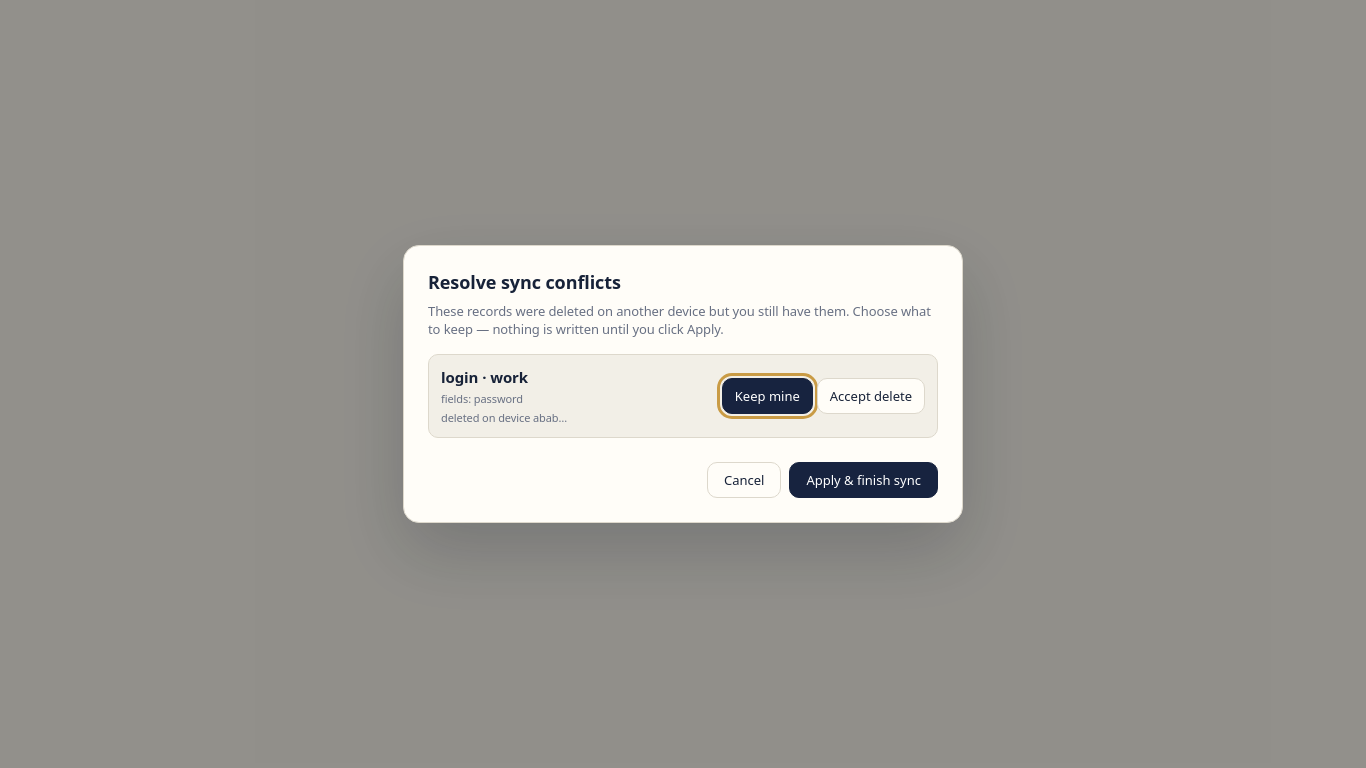
it: ConflictResolutionDialog.svelte › renders an inline alert and stays open on failure, without resolving
The image size is (1366, 768).
Click the button "Apply & finish sync". click: [864, 480]
box: [790, 462, 938, 498]
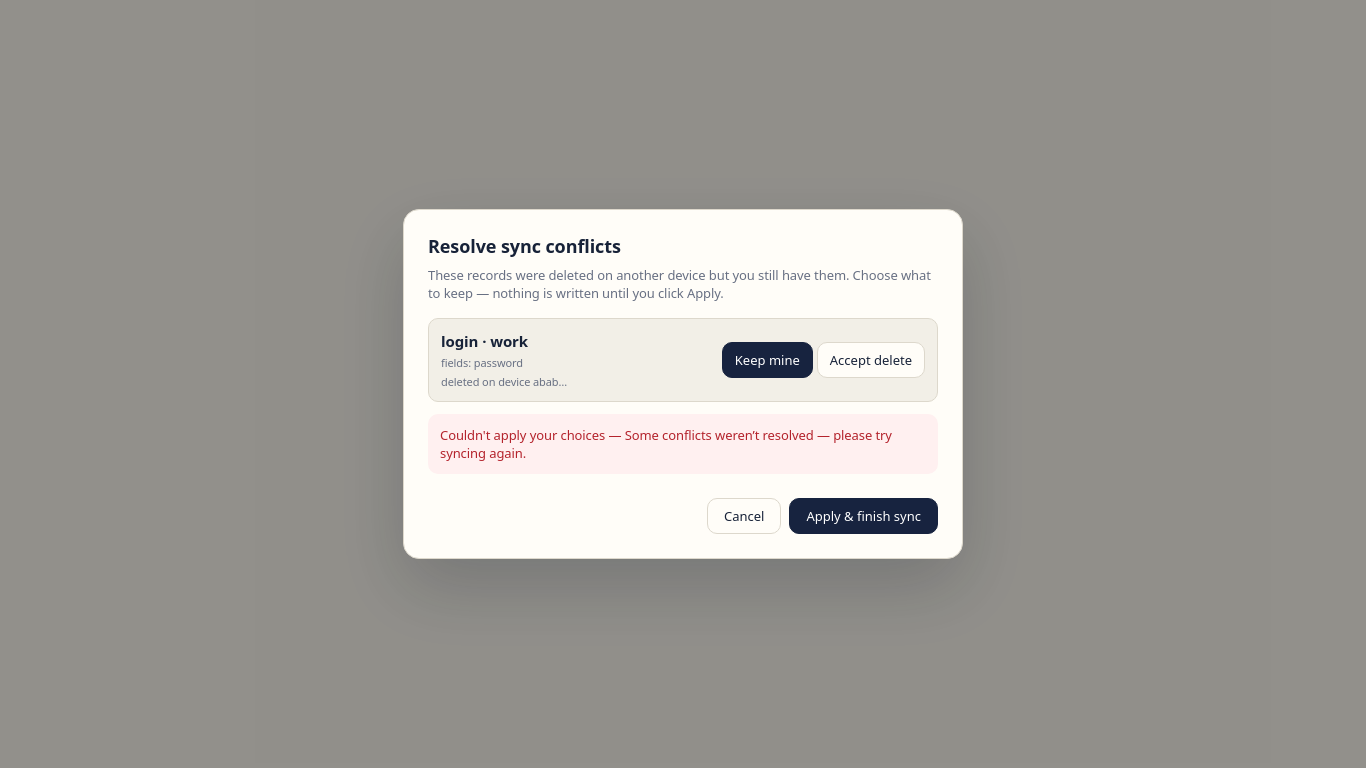
Check: the button "Apply & finish sync" is enabled, box [790, 498, 938, 534]
Check: the message shows "couldn.t apply your choices", box [440, 426, 892, 462]
